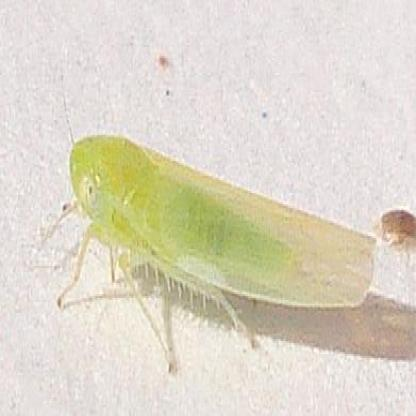green-leafhopper: (41, 138, 379, 376)
